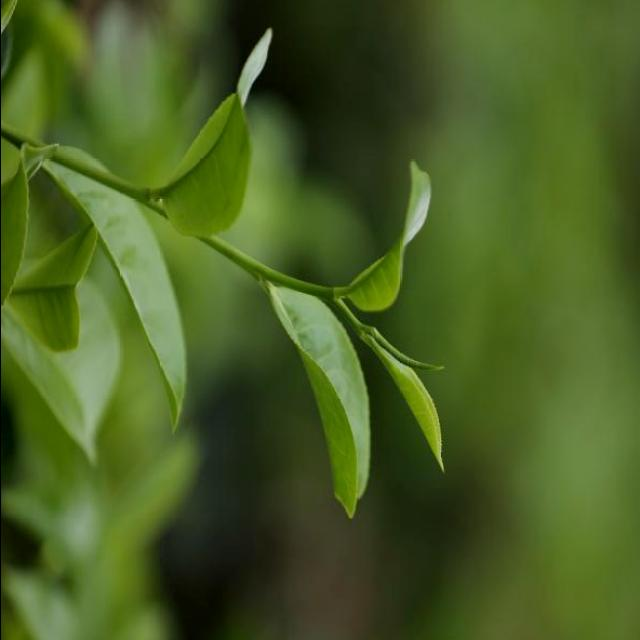Stem: (316, 286, 333, 301)
